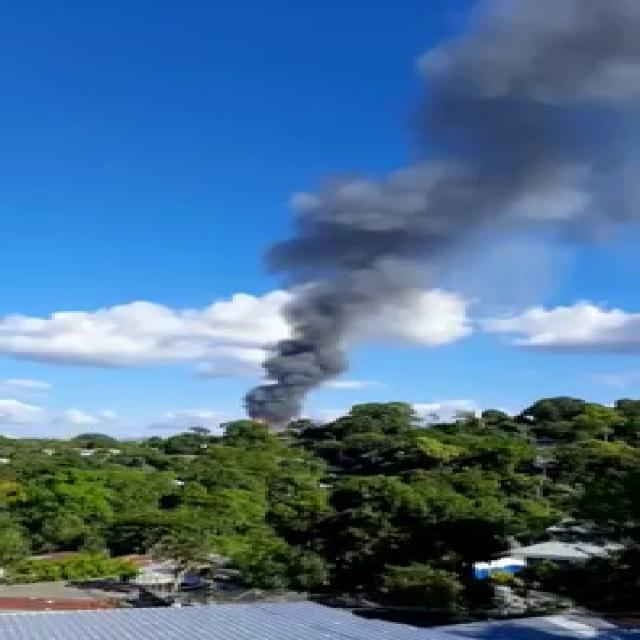Smoke: (216, 0, 624, 420)
